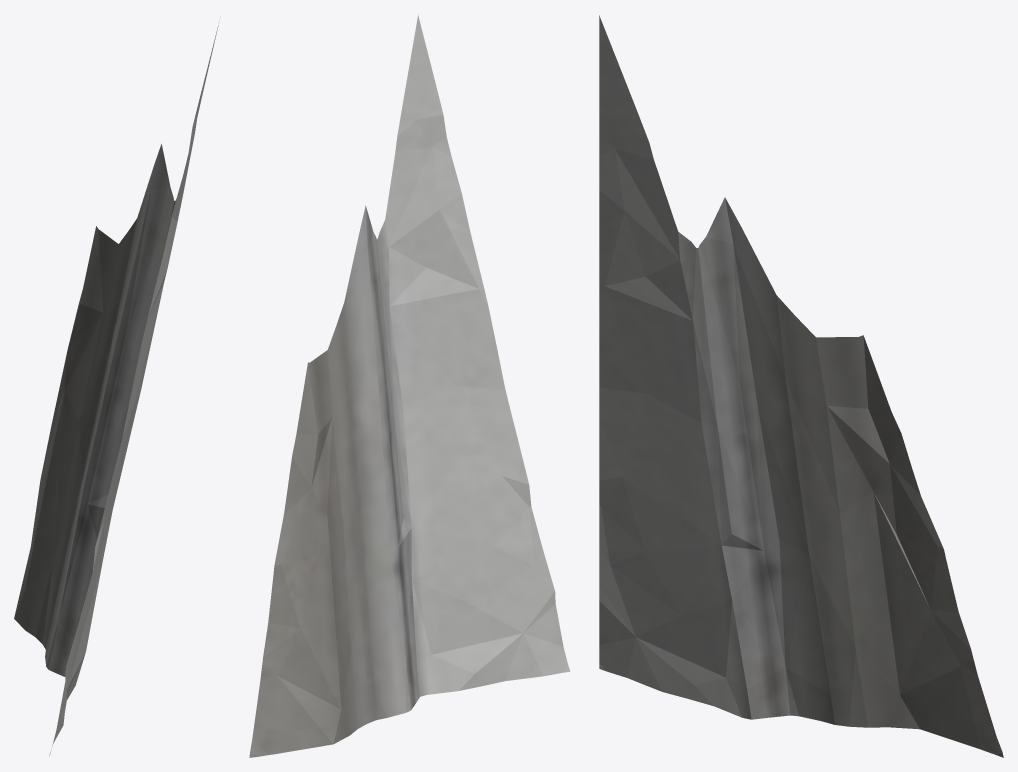
The picture shows the model from 3 angles, left to right: view 1: azimuth 30°, elevation 25°; view 2: azimuth 150°, elevation 25°; view 3: azimuth 270°, elevation 25°; orthographic projection. The views are drawn at different scales.
Size of the model in its own units: 0.1035 by 0.4027 by 0.1984.
1 material, 1 textured.
